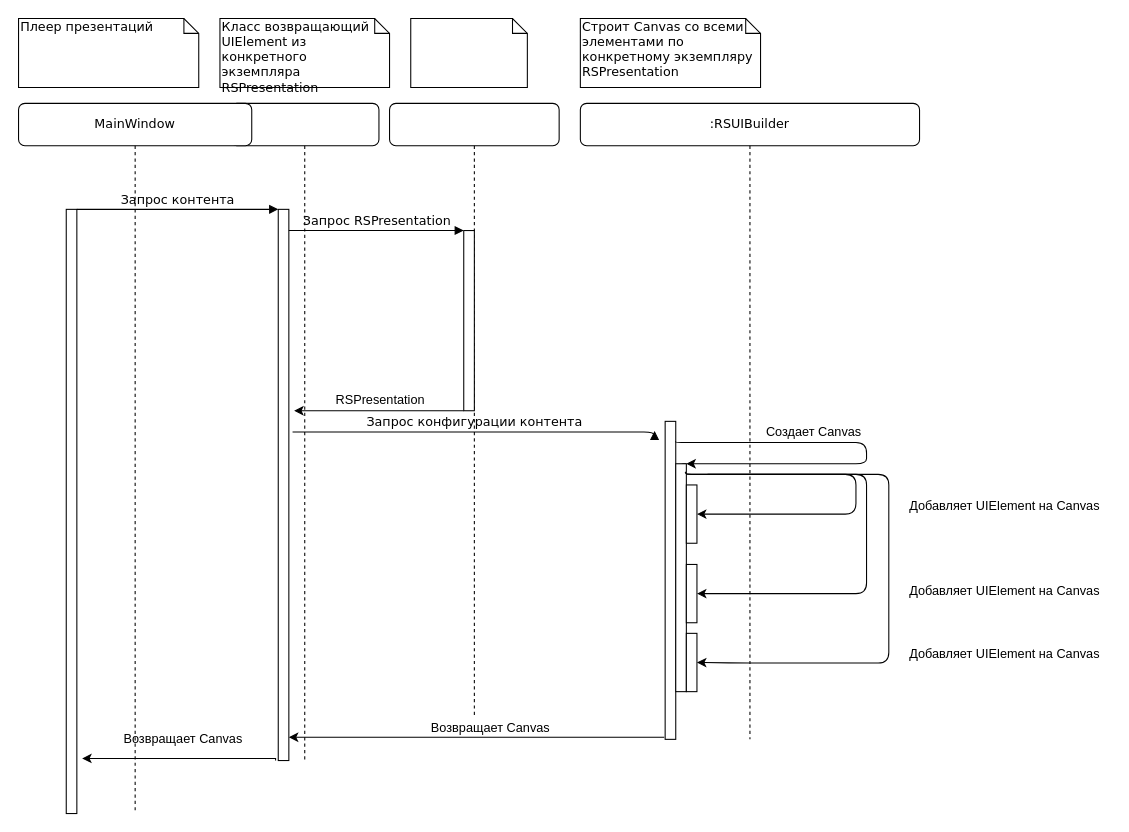
Some shapes in this 1129 by 832 pixel diagram are drawn without their labels. Here are the shapes that lost their labels. From the top down, the centre of each, then its label:
the point at 468,52: Генерирует презентацию для проверки
the point at 473,410: :FakePresentationLoader
the point at 304,431: :UIConstructor
